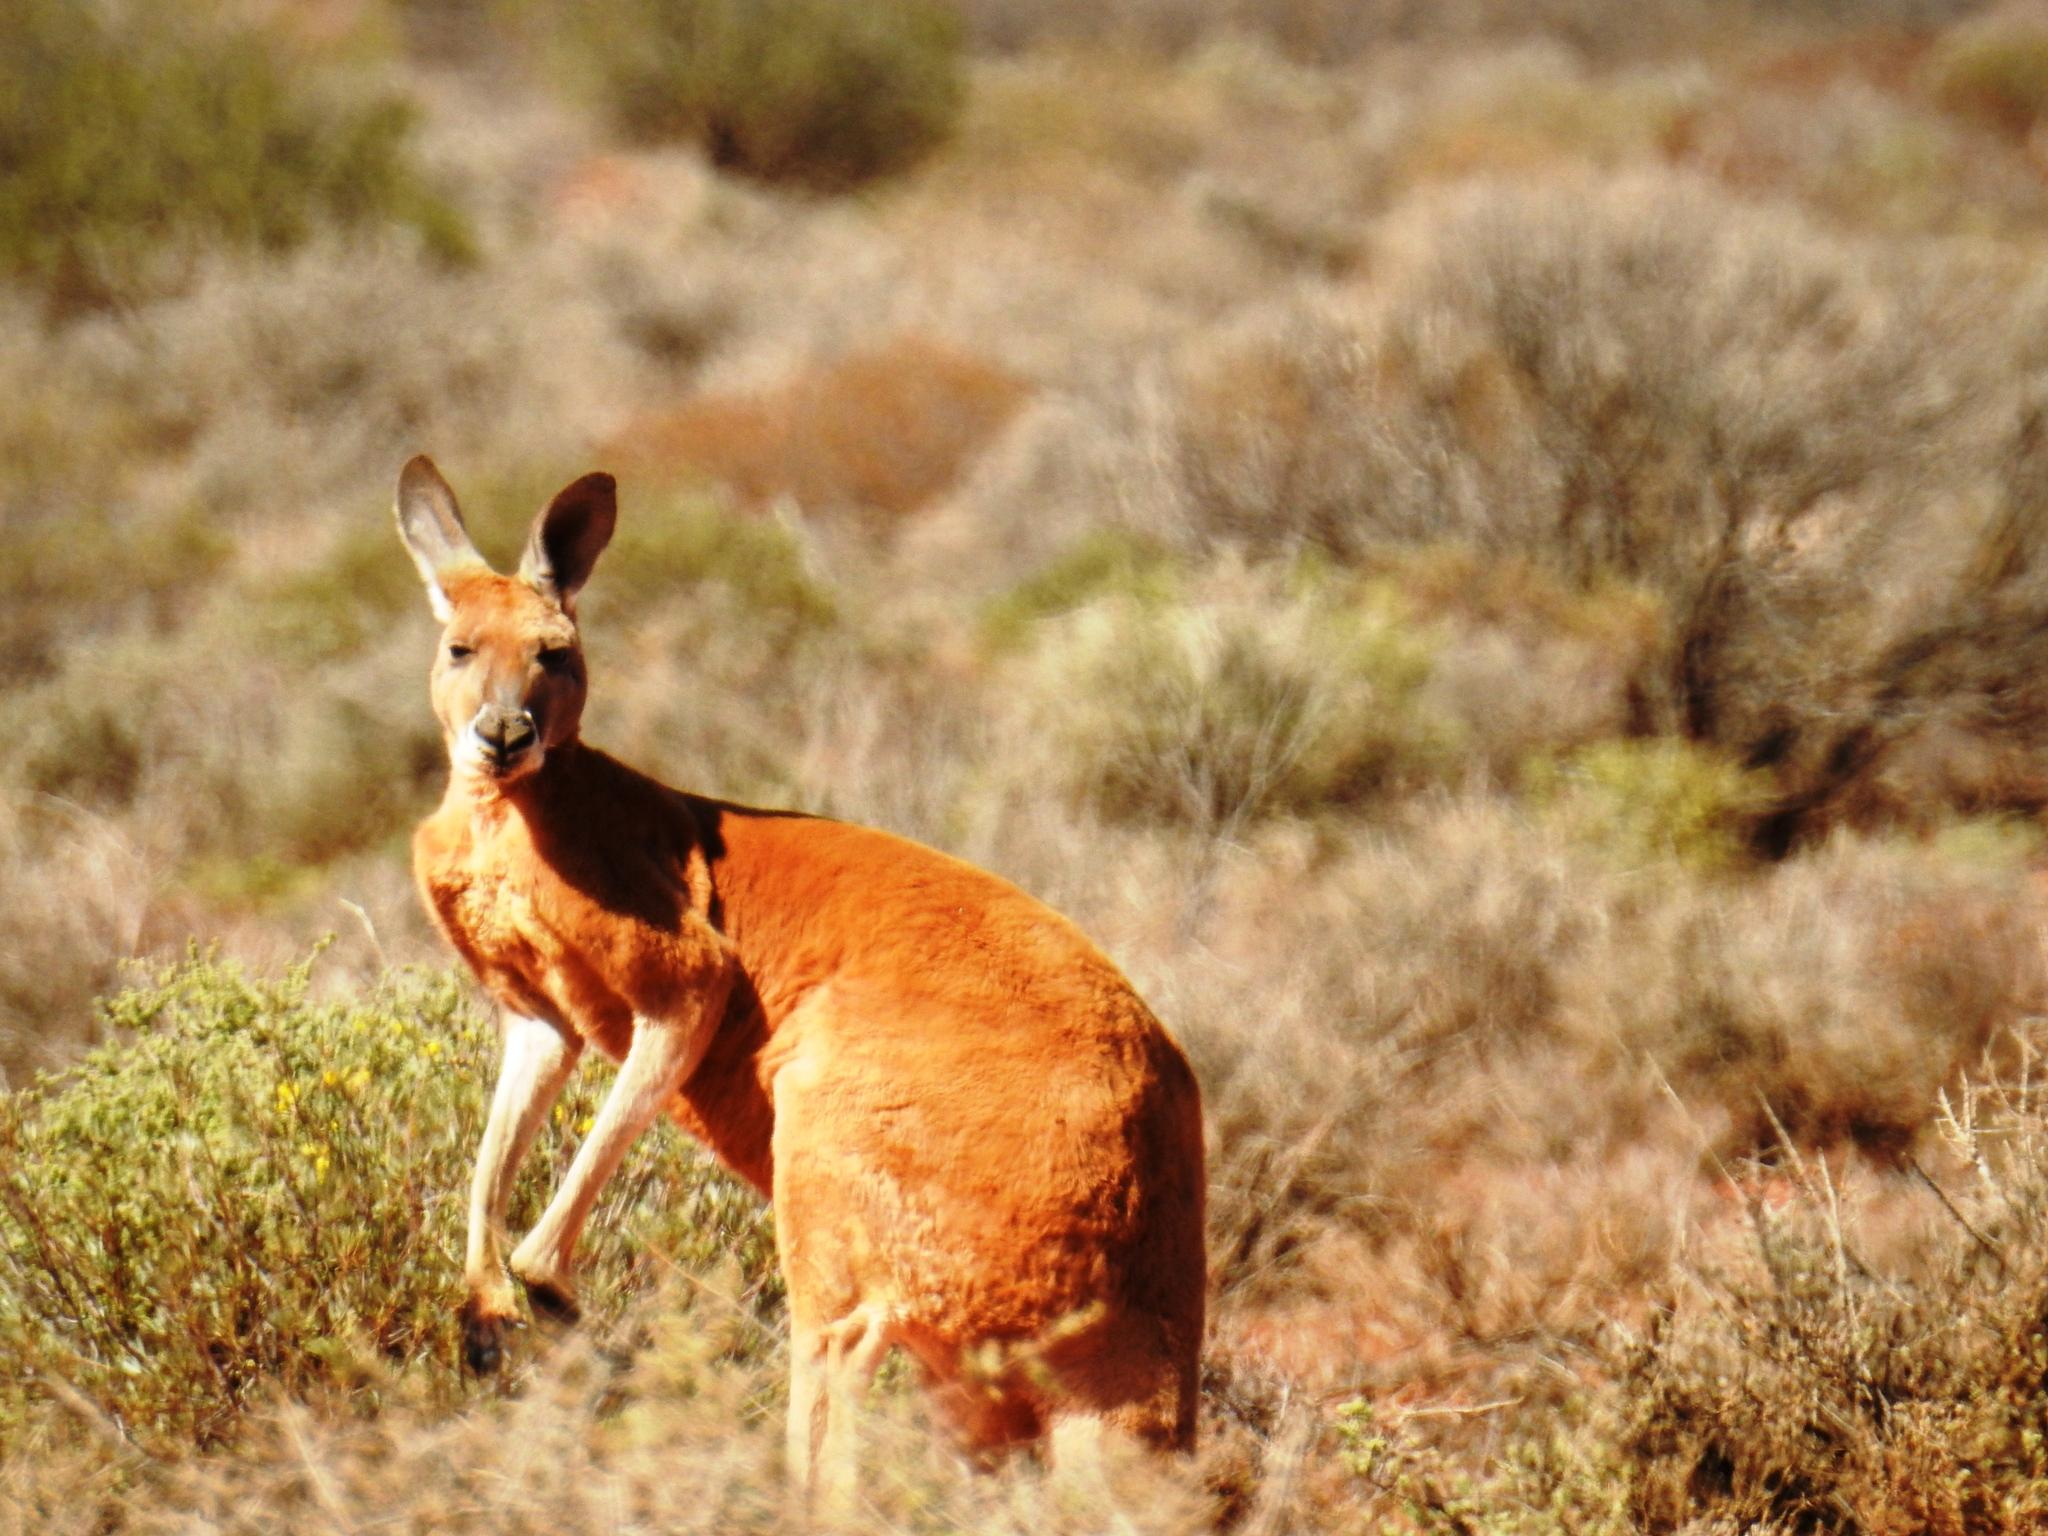Red kangaroo: (384, 453, 1245, 1533)
